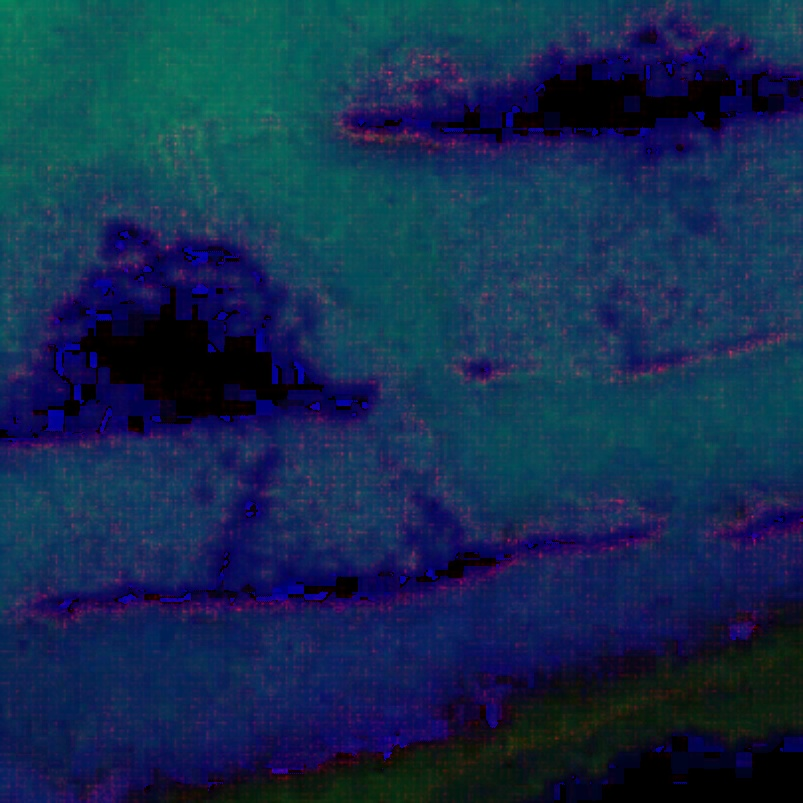rip_current: (206, 62, 631, 549)
